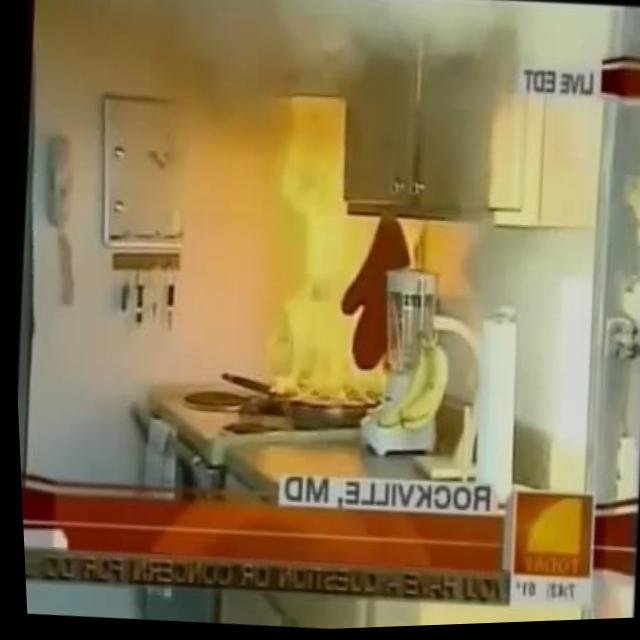fire: (252, 135, 397, 412)
